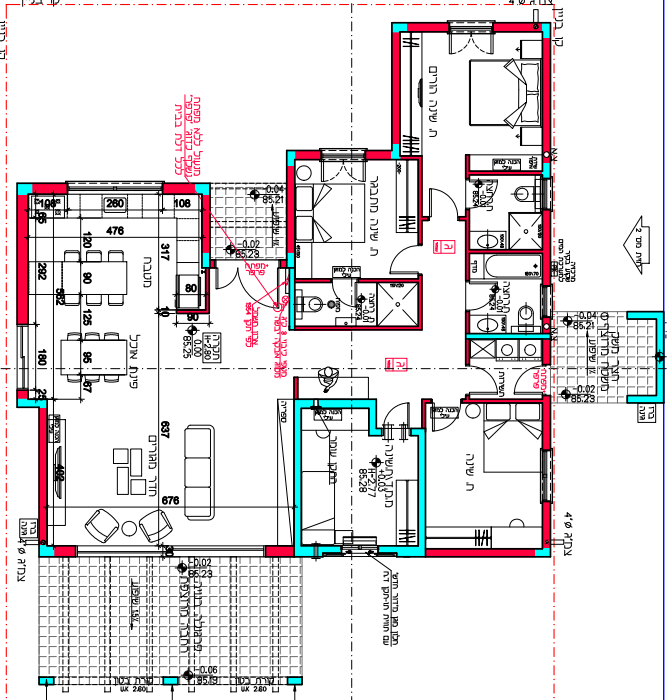door: (426, 184, 459, 214), (383, 247, 415, 277), (474, 364, 501, 396), (512, 368, 535, 397), (386, 398, 412, 421)
wall: (416, 430, 426, 556), (17, 196, 26, 321), (294, 401, 301, 550), (39, 413, 46, 544), (542, 38, 549, 151), (392, 32, 399, 139), (542, 209, 550, 282), (436, 550, 525, 555)
window: (62, 174, 165, 195), (8, 325, 37, 389), (529, 450, 561, 504), (321, 139, 366, 168), (446, 9, 495, 34)
